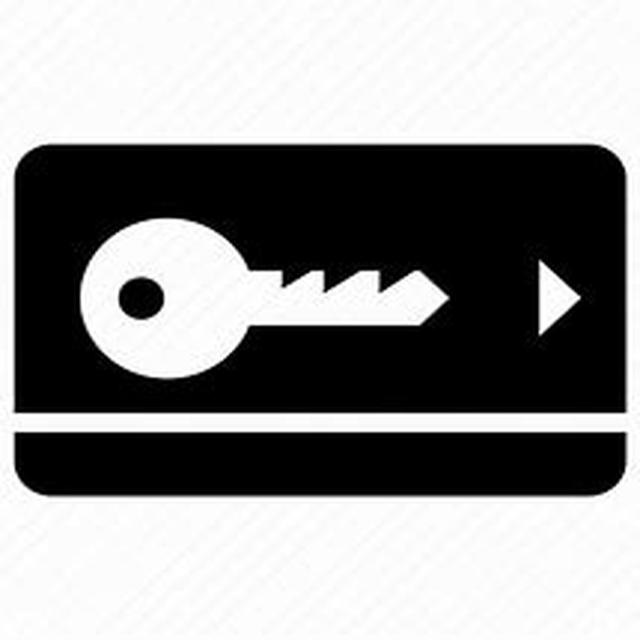card: (5, 118, 640, 534)
